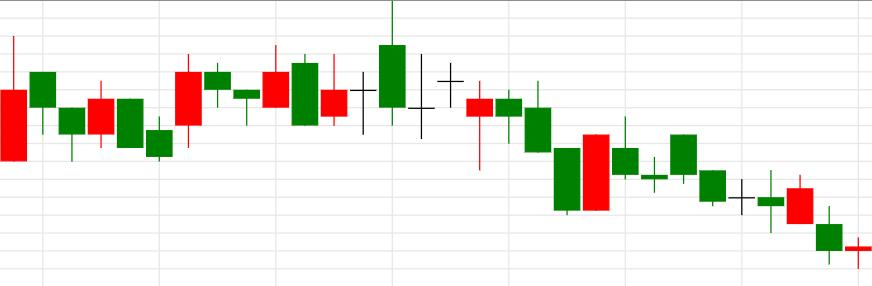bullish_engulfing_rise: (378, 0, 611, 217)
